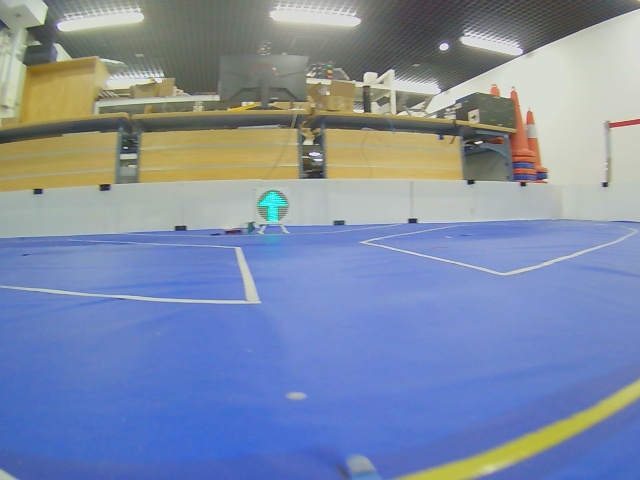straight_green: (257, 190, 289, 223)
